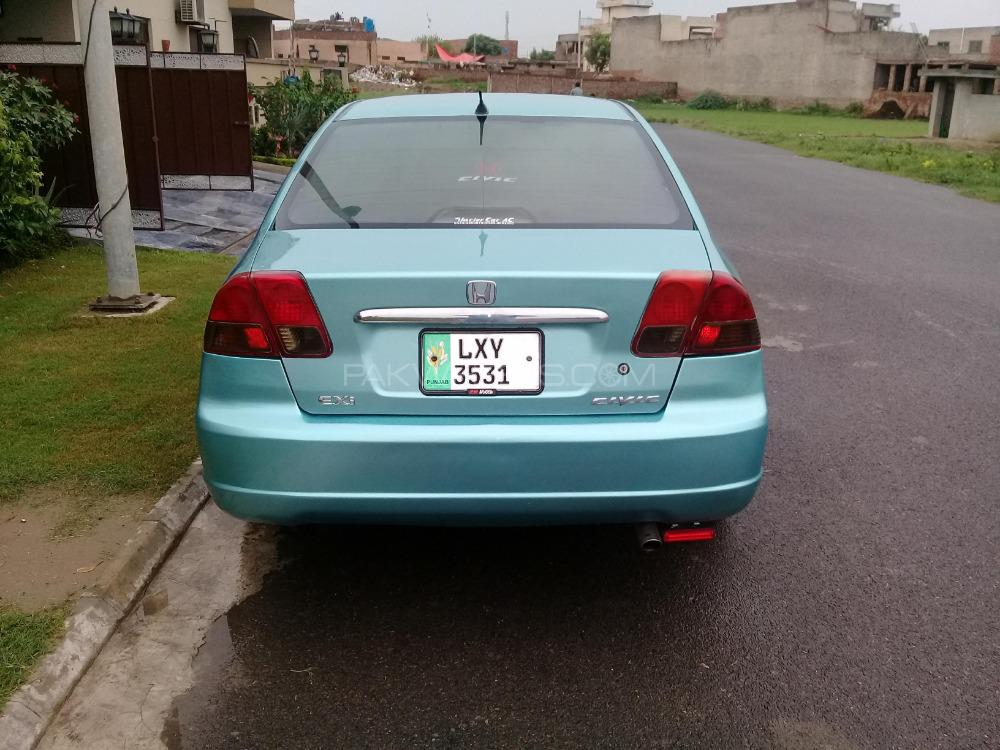license plate: (422, 331, 540, 390)
